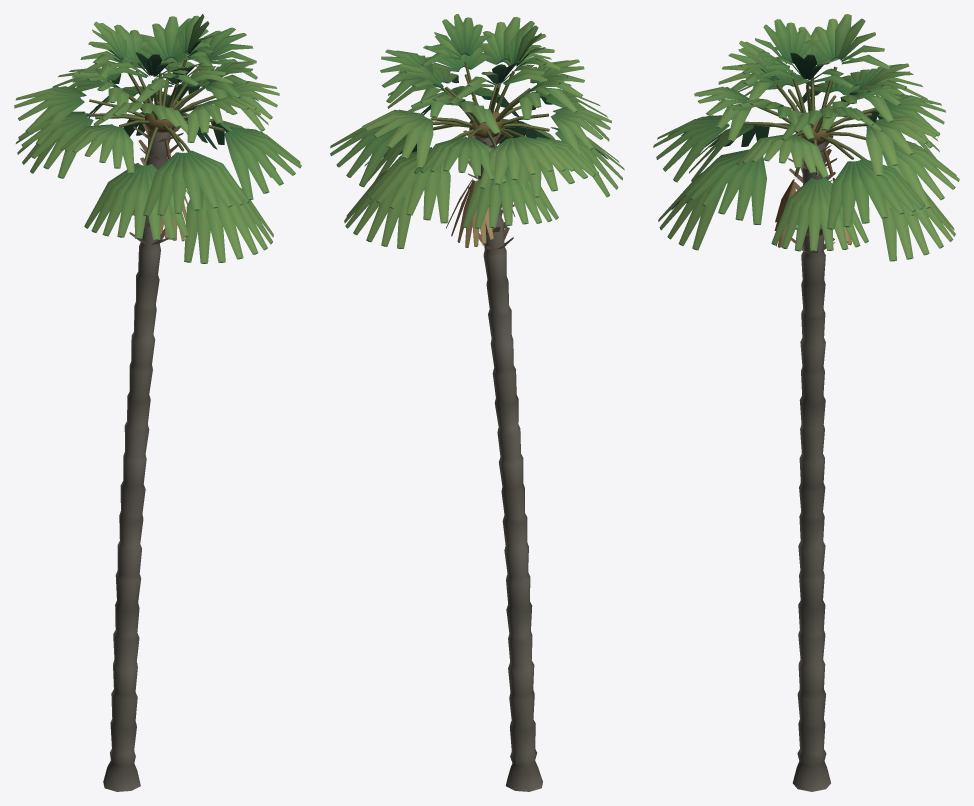
File: PalmSabalTall.fbx
The picture shows the model from 3 angles, left to right: view 1: azimuth 30°, elevation 25°; view 2: azimuth 150°, elevation 25°; view 3: azimuth 270°, elevation 25°; orthographic projection. The views are drawn at different scales.
Parts seen in each view (by area): view 1: PalmSabalTall; view 2: PalmSabalTall; view 3: PalmSabalTall.
Part boxes in pixels (<box>): PalmSabalTall: <box>14,14,301,791</box>; PalmSabalTall: <box>330,14,624,791</box>; PalmSabalTall: <box>653,14,959,791</box>.
Bounding box in the file's own units: 4.39 × 12.92 × 4.66.
